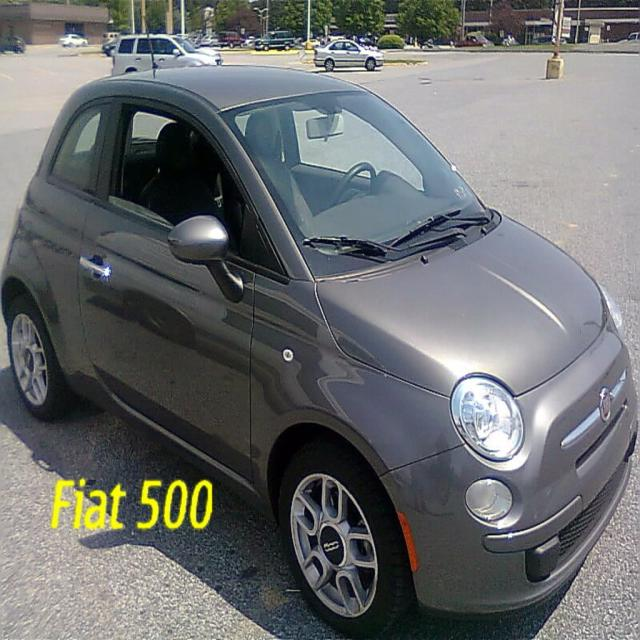Car: (0, 22, 638, 640), (110, 36, 222, 76), (312, 36, 381, 72), (255, 31, 295, 51), (220, 31, 248, 49)
